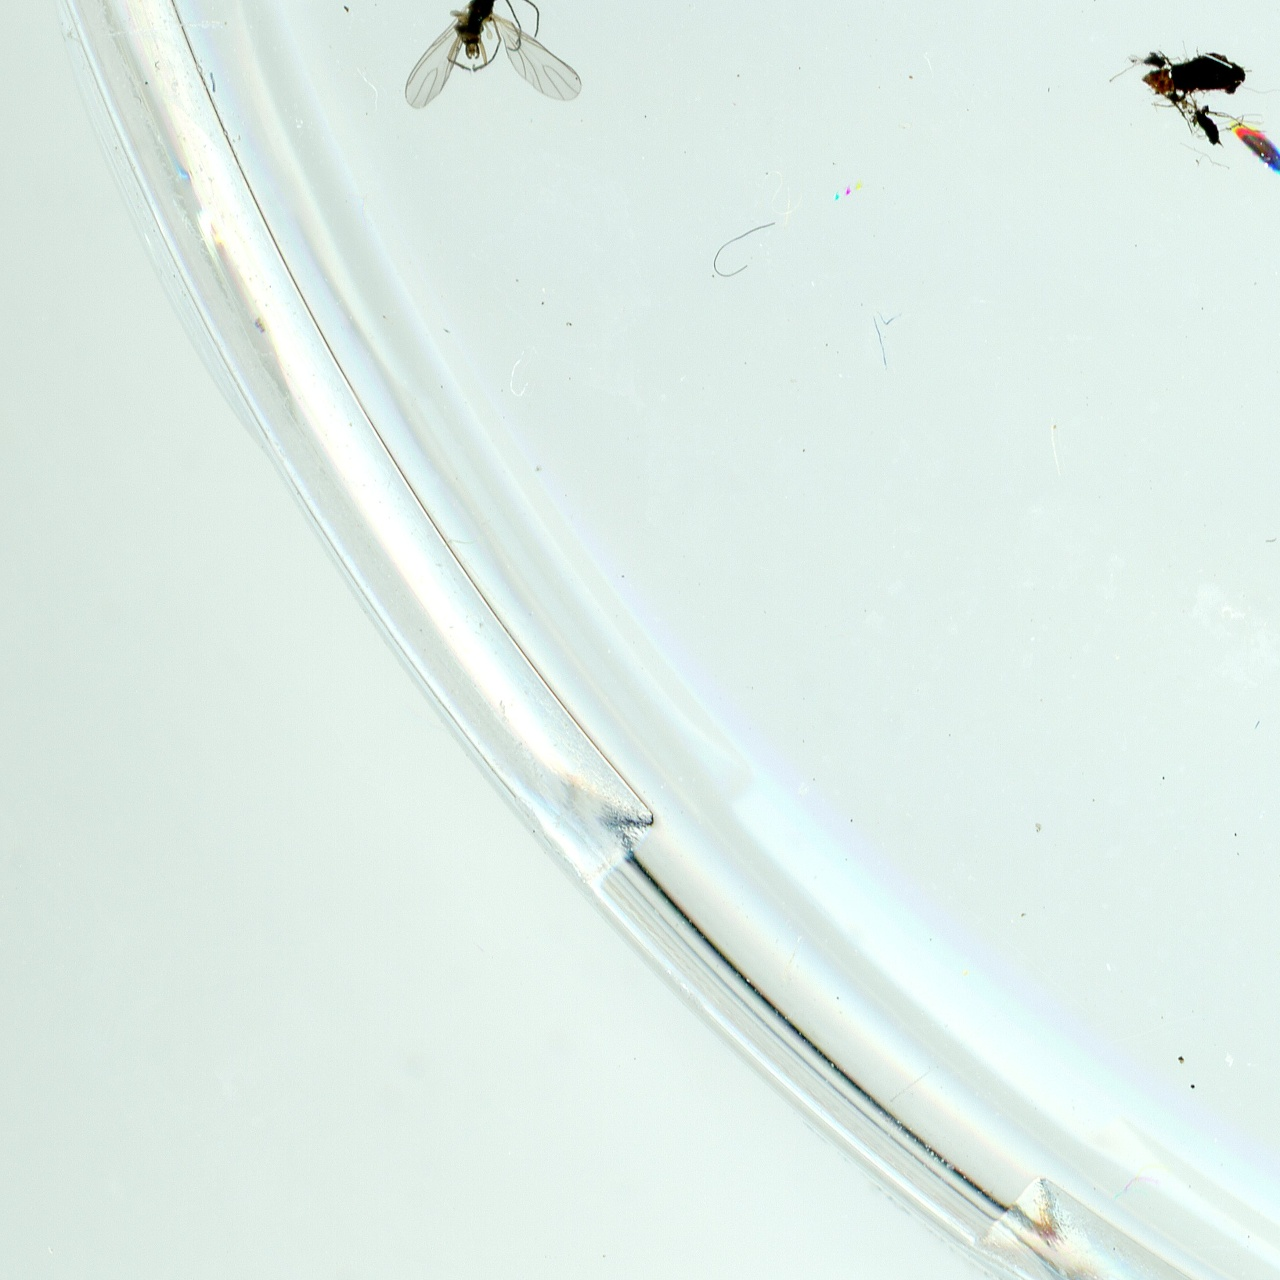arthropod: (394, 0, 587, 116), (1218, 110, 1280, 223)
